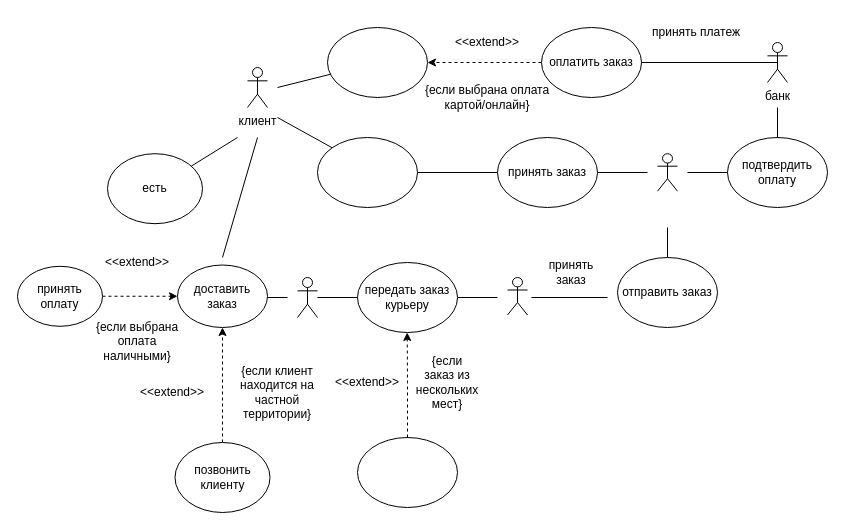
Image size: 845x530. Some labels were removed from this diagram. The shapes that lost their labels are listed below. From the top down, each one's box as (x1, y1, x2, y2) in pixels, then its label:
(326, 26, 428, 98): выбрать способ оплаты
(316, 136, 418, 208): заказ (выбор еды)
(656, 153, 678, 191): менеджер
(296, 276, 318, 318): курьер
(506, 276, 528, 315): шеф
(356, 436, 458, 508): дополнительный сбор
